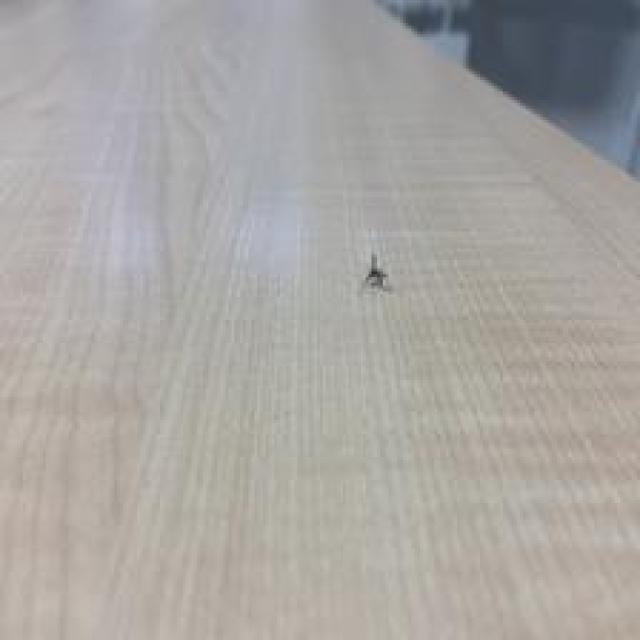Aedes albopictus: (364, 252, 390, 288)
